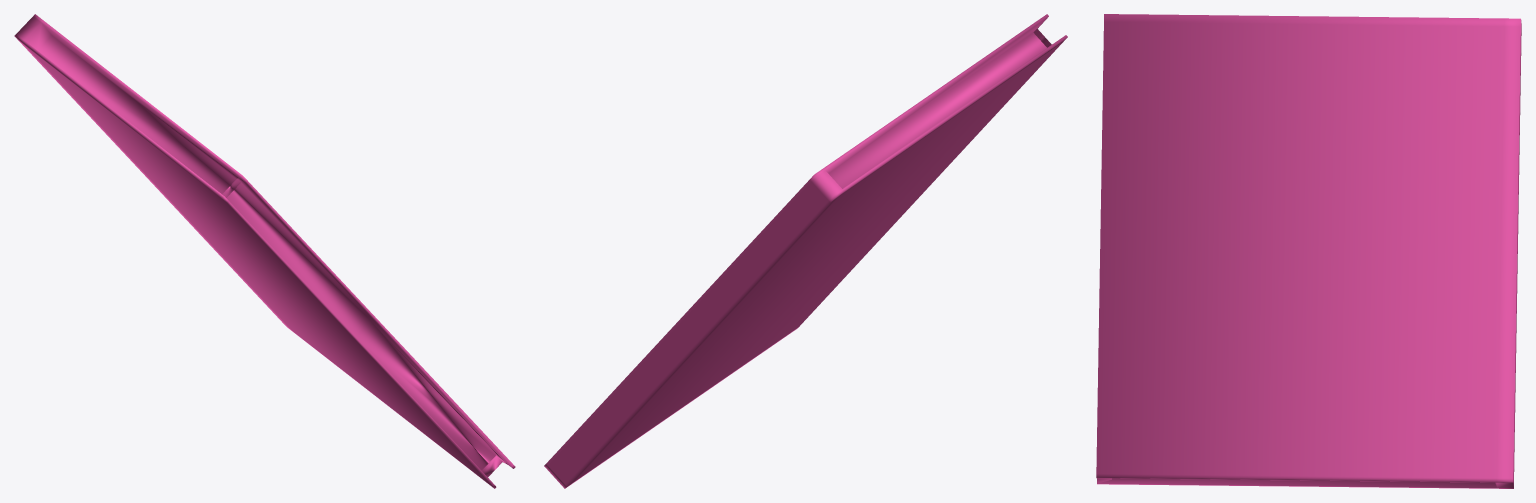
The model's file is Book_8.fbx.
The picture shows the model from 3 angles, left to right: view 1: azimuth 30°, elevation 25°; view 2: azimuth 150°, elevation 25°; view 3: azimuth 270°, elevation 25°; orthographic projection. The views are drawn at different scales.
Parts seen in each view (by area): view 1: Book_8; view 2: Book_8; view 3: Book_8.
Boxes of the visible parts, box(x1,y1,x2,y2) form: Book_8: box(14, 14, 515, 488); Book_8: box(544, 14, 1067, 488); Book_8: box(1096, 14, 1521, 488).
Bounding box in the file's own units: 20.92 × 24.78 × 26.93.
